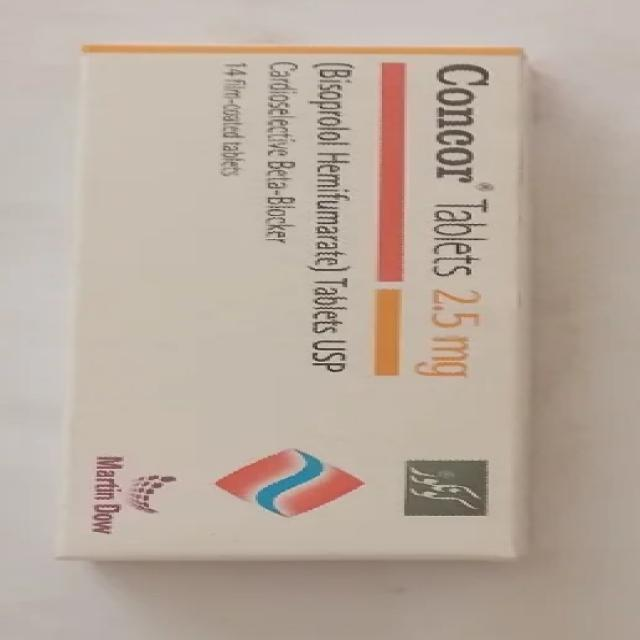drug-name: (430, 59, 494, 192)
